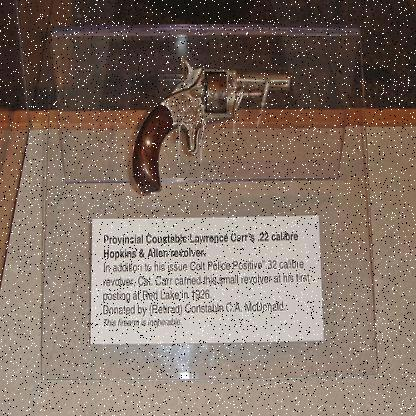pistol: (133, 53, 292, 194)
